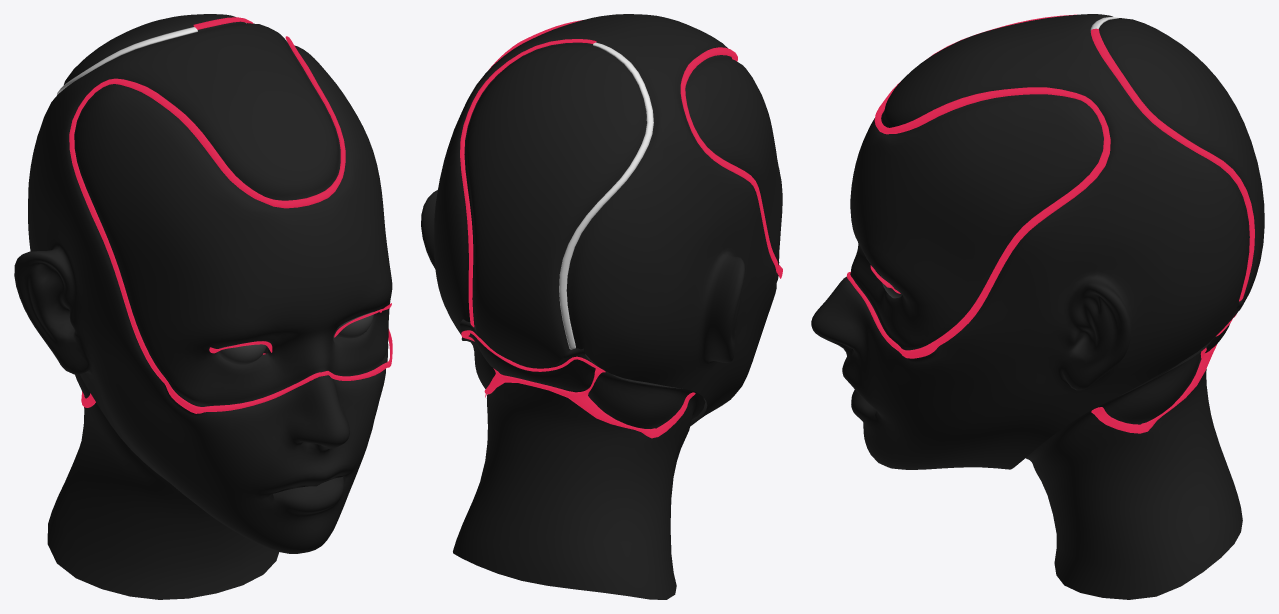
Rendered from Cyborg.glb.
The picture shows the model from 3 angles, left to right: view 1: azimuth 30°, elevation 25°; view 2: azimuth 150°, elevation 25°; view 3: azimuth 270°, elevation 25°; orthographic projection. The views are drawn at different scales.
Parts seen in each view (by area): view 1: Head, Neck, Neon; view 2: Head, Neck, Neon, Neon_neck; view 3: Head, Neck, Neon, Neon_neck.
Part boxes in pixels (x1,y1,x2,y2): Head: (14, 14, 392, 553); Neck: (47, 346, 279, 599); Neon: (69, 17, 392, 413); Head: (421, 14, 782, 426); Neck: (453, 319, 705, 599); Neon: (460, 20, 782, 327); Neon_neck: (461, 330, 695, 438); Head: (811, 14, 1264, 469); Neck: (1025, 300, 1243, 599); Neon: (847, 14, 1254, 358); Neon_neck: (1091, 314, 1236, 433).
Bounding box in the file's own units: 1.63 × 2.59 × 1.99.
